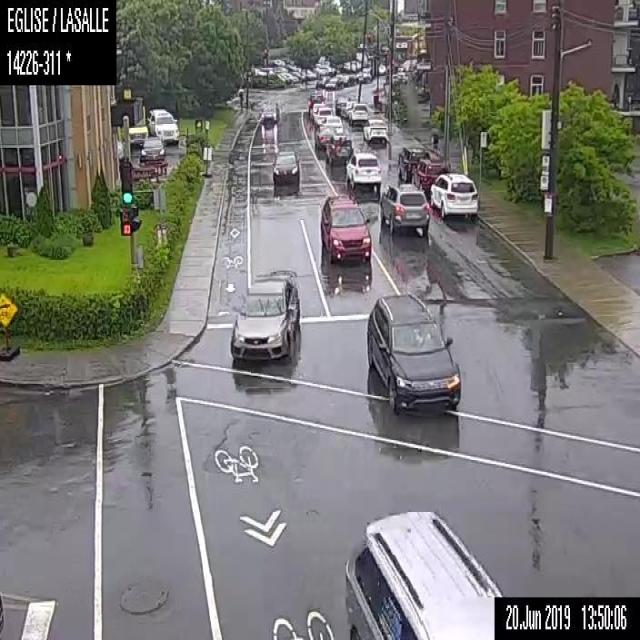vehicle: (341, 508, 504, 639), (363, 289, 461, 415), (228, 270, 301, 358), (319, 193, 372, 261), (378, 179, 428, 237), (429, 171, 478, 221), (344, 150, 380, 192), (412, 156, 449, 192), (271, 145, 300, 188), (146, 107, 178, 145), (397, 144, 429, 180), (324, 133, 352, 164), (360, 118, 388, 144), (139, 136, 165, 162), (313, 124, 336, 148), (320, 114, 342, 135), (348, 102, 369, 123), (260, 99, 279, 122), (306, 90, 324, 112), (314, 106, 332, 125), (334, 94, 349, 113), (324, 76, 344, 88), (341, 100, 355, 117), (280, 69, 297, 82)
